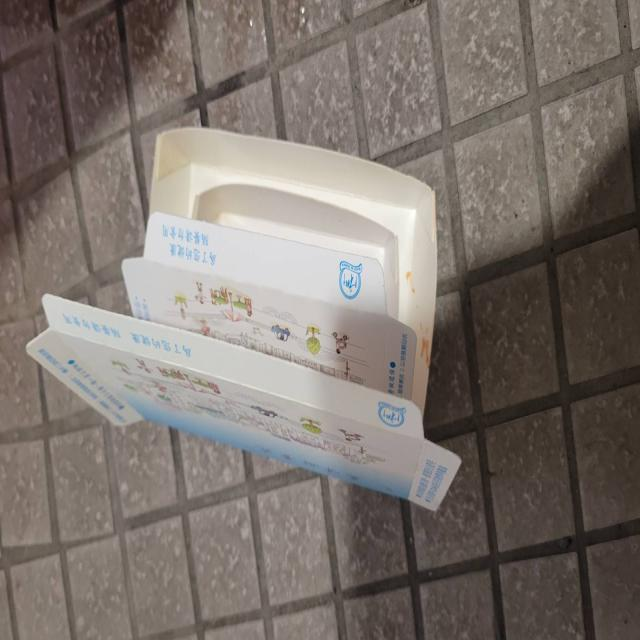Paper bowl: (35, 87, 473, 518), (133, 178, 414, 397)
